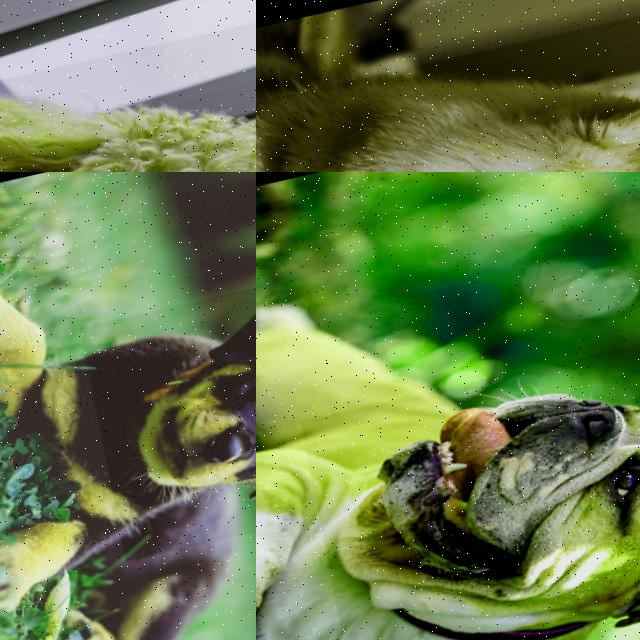bulldog: (295, 328, 640, 640)
husky: (256, 0, 640, 172)
poodle: (0, 6, 256, 172)
rottweiler: (76, 251, 256, 562)
